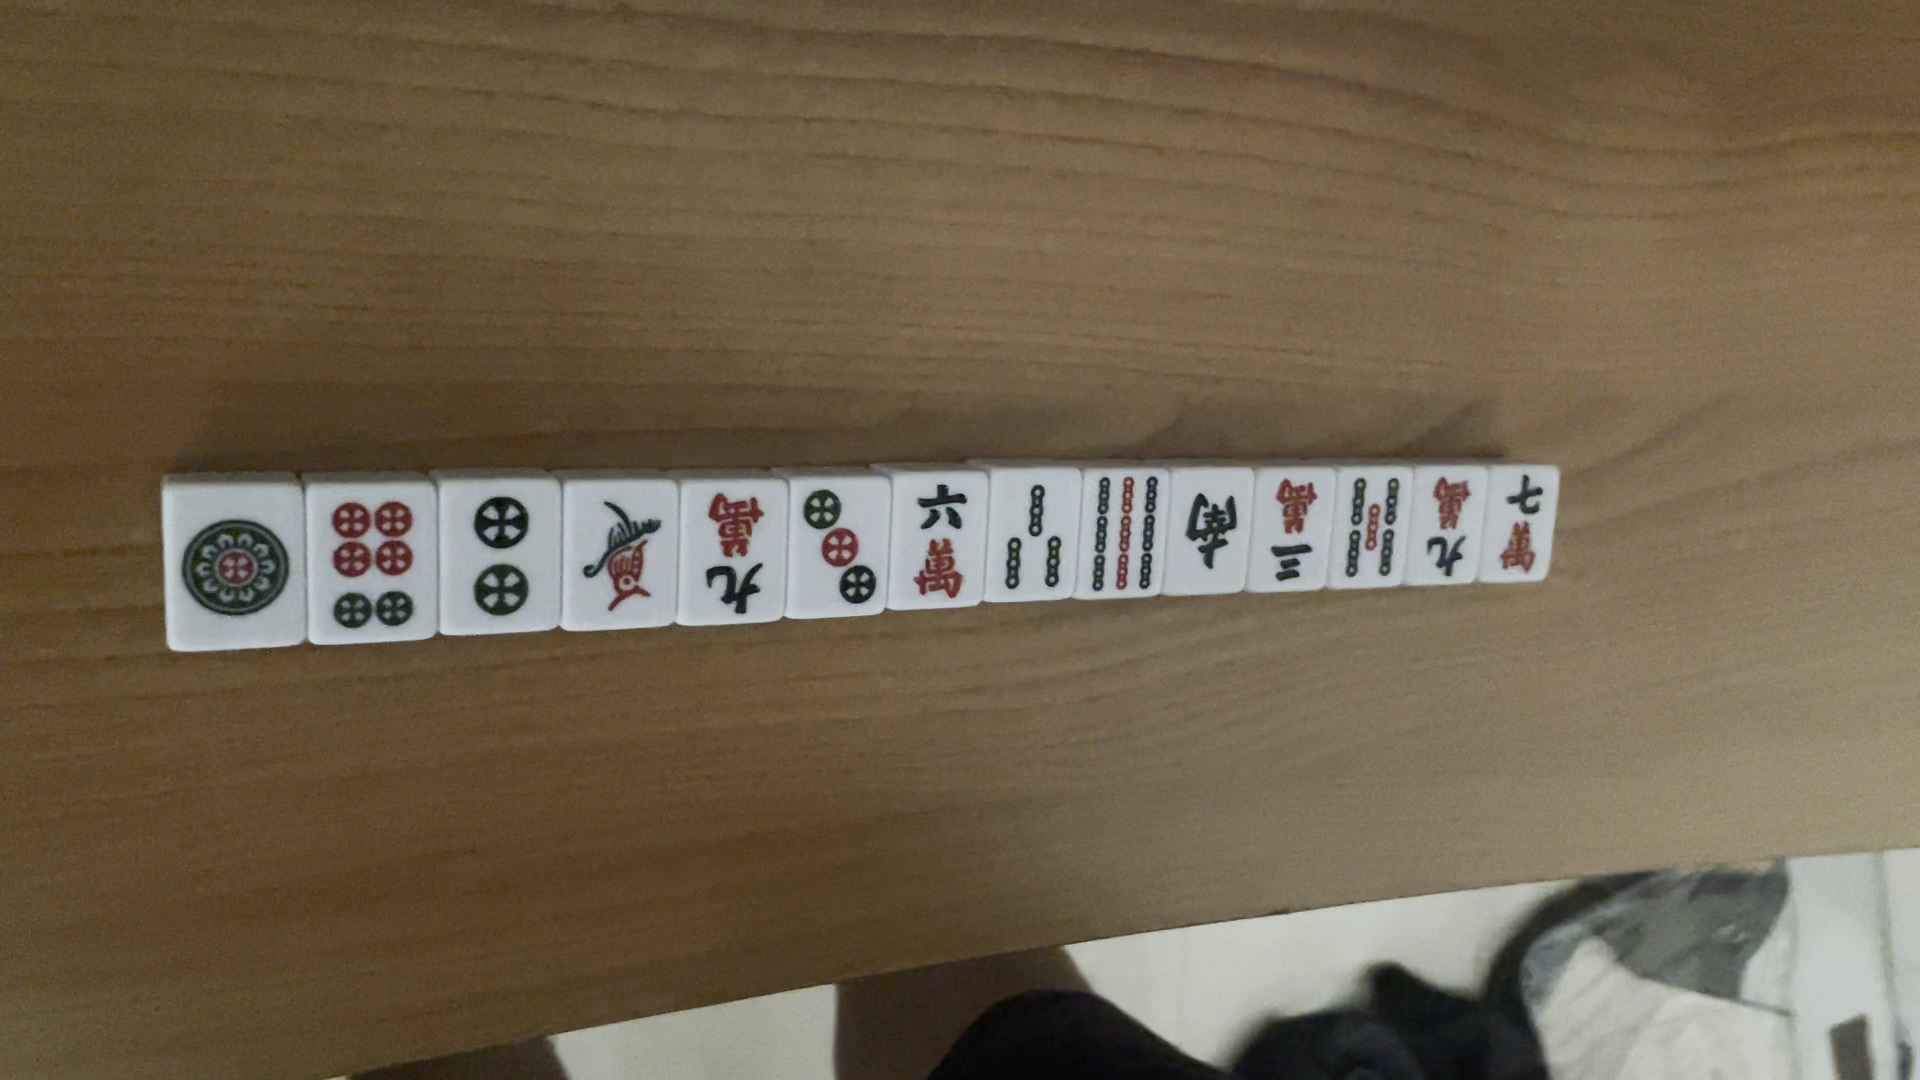b-1: (574, 492, 662, 617)
b-3: (1002, 469, 1069, 601)
b-5: (1336, 473, 1408, 585)
b-9: (1087, 475, 1162, 593)
c-3: (1262, 472, 1323, 582)
c-6: (903, 480, 973, 607)
c-7: (1495, 473, 1547, 576)
c-9: (680, 489, 777, 622), (1418, 469, 1480, 585)
d-1: (170, 498, 297, 628)
d-2: (447, 491, 535, 620)
d-3: (800, 489, 876, 611)
d-6: (320, 496, 423, 634)
honors-south: (1178, 483, 1241, 572)
